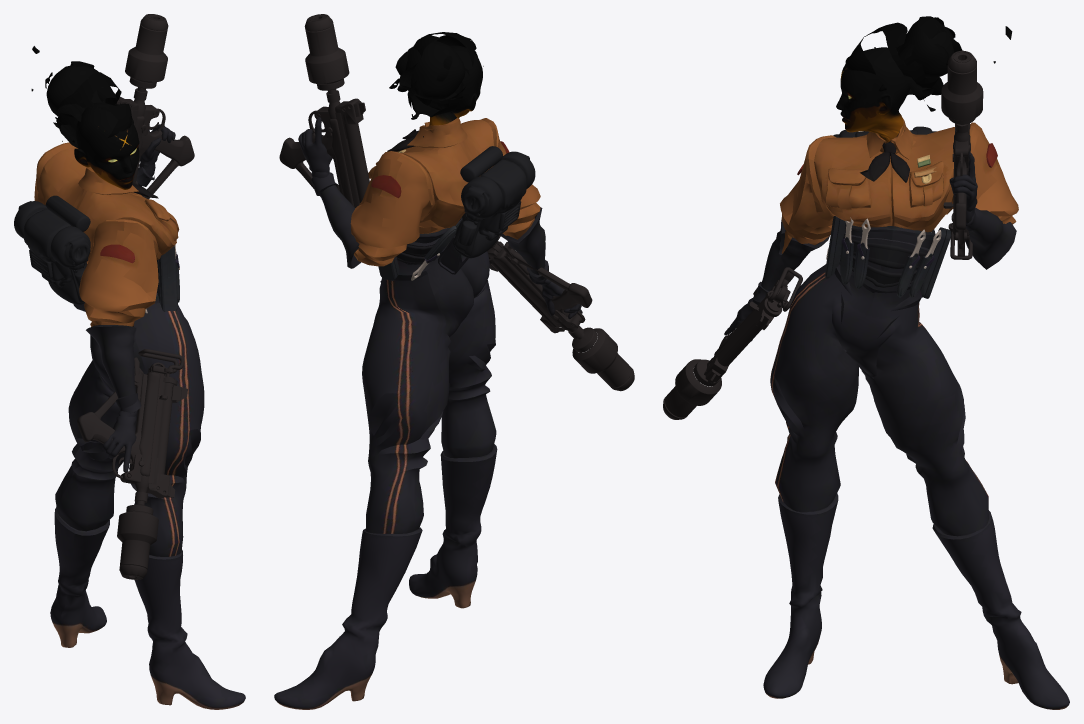
3 renders of one model, left to right at view 1: azimuth 30°, elevation 25°; view 2: azimuth 150°, elevation 25°; view 3: azimuth 270°, elevation 25°, orthographic. The views are drawn at different scales.
Visible parts, largest first — view 1: models\heroes_staging\haze\haze.vmdl_c.body, models\heroes_staging\haze\haze.vmdl_c.haze_gun_r, models\heroes_staging\haze\haze.vmdl_c.haze_gun_l; view 2: models\heroes_staging\haze\haze.vmdl_c.body, models\heroes_staging\haze\haze.vmdl_c.haze_gun_l, models\heroes_staging\haze\haze.vmdl_c.haze_gun_r; view 3: models\heroes_staging\haze\haze.vmdl_c.body, models\heroes_staging\haze\haze.vmdl_c.haze_gun_r, models\heroes_staging\haze\haze.vmdl_c.haze_gun_l.
Boxes of the visible parts, x1,y1,x2,y2 form: models\heroes_staging\haze\haze.vmdl_c.body: (14, 46, 245, 709); models\heroes_staging\haze\haze.vmdl_c.haze_gun_r: (77, 349, 187, 579); models\heroes_staging\haze\haze.vmdl_c.haze_gun_l: (116, 14, 194, 198); models\heroes_staging\haze\haze.vmdl_c.body: (274, 32, 582, 709); models\heroes_staging\haze\haze.vmdl_c.haze_gun_l: (279, 14, 369, 207); models\heroes_staging\haze\haze.vmdl_c.haze_gun_r: (487, 235, 634, 391); models\heroes_staging\haze\haze.vmdl_c.body: (724, 16, 1069, 709); models\heroes_staging\haze\haze.vmdl_c.haze_gun_r: (663, 267, 802, 419); models\heroes_staging\haze\haze.vmdl_c.haze_gun_l: (941, 50, 983, 259).
Bounding box in the file's own units: 0.8488 × 2.48 × 1.38.
Materials: 5 (3 with a texture image).
